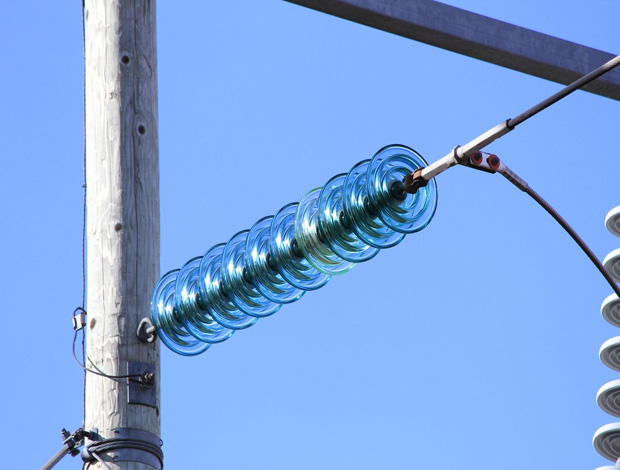isolator: (148, 142, 438, 357)
